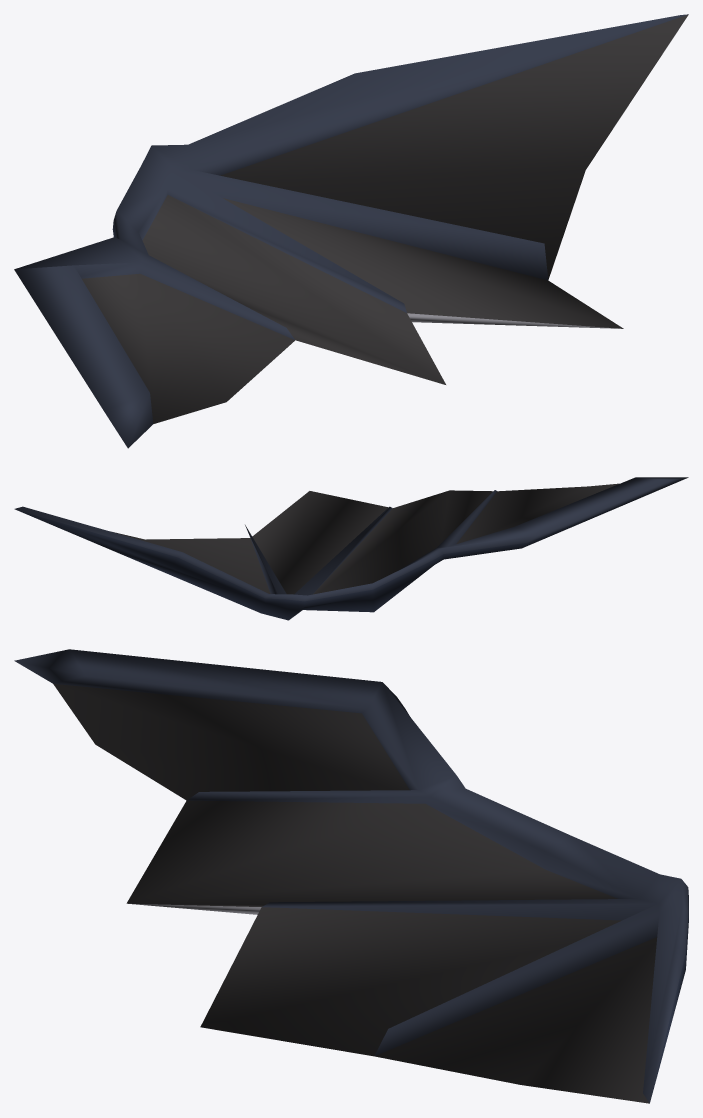
Rendered from BatWing.fbx.
3 renders of one model, top to bottom at view 1: azimuth 30°, elevation 25°; view 2: azimuth 150°, elevation 25°; view 3: azimuth 270°, elevation 25°, orthographic. The views are drawn at different scales.
Visible parts, largest first — view 1: bat_asset_Cube.057; view 2: bat_asset_Cube.057; view 3: bat_asset_Cube.057.
Part boxes in pixels (<box>): bat_asset_Cube.057: <box>14,14,688,448</box>; bat_asset_Cube.057: <box>14,477,688,620</box>; bat_asset_Cube.057: <box>14,649,688,1103</box>.
Size of the model in its own units: 47.18 by 6.9 by 32.51.
